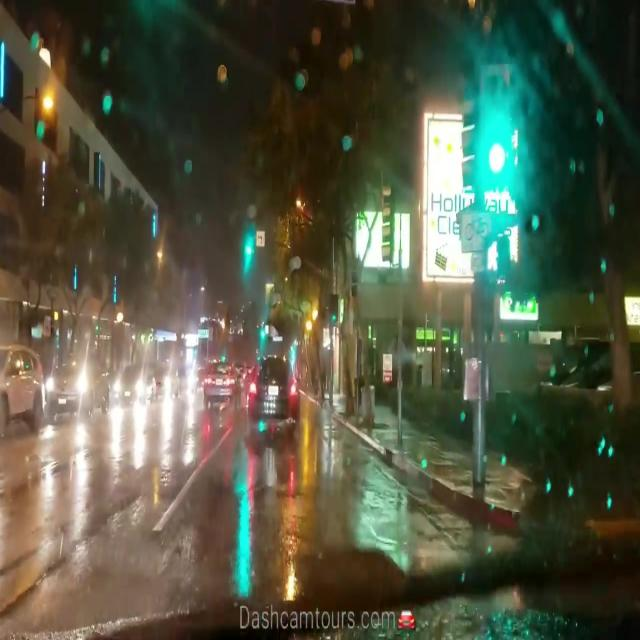Car: (245, 350, 298, 430), (48, 353, 108, 418), (0, 343, 39, 433), (199, 360, 237, 402), (115, 366, 150, 402)
